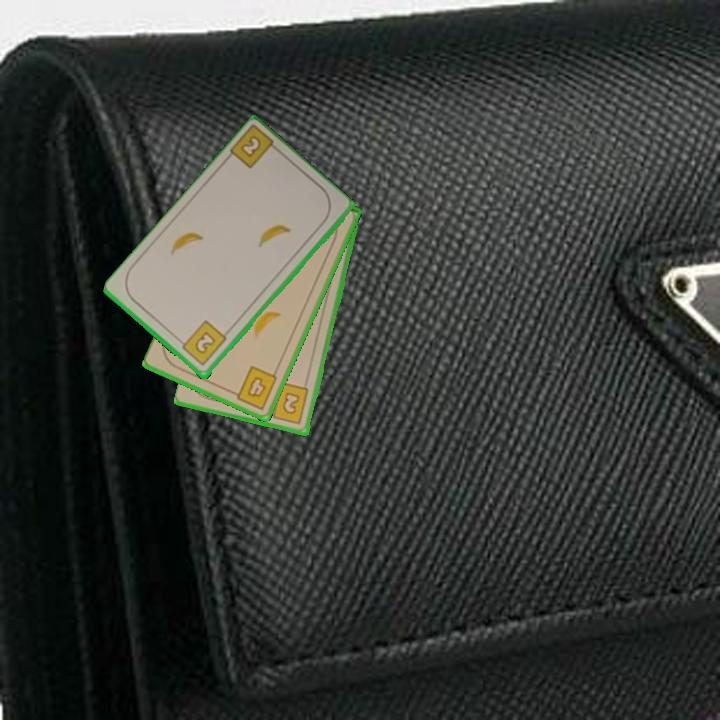2b: (175, 317, 230, 369), (226, 123, 284, 172), (263, 380, 312, 427)
4b: (228, 362, 280, 413)
